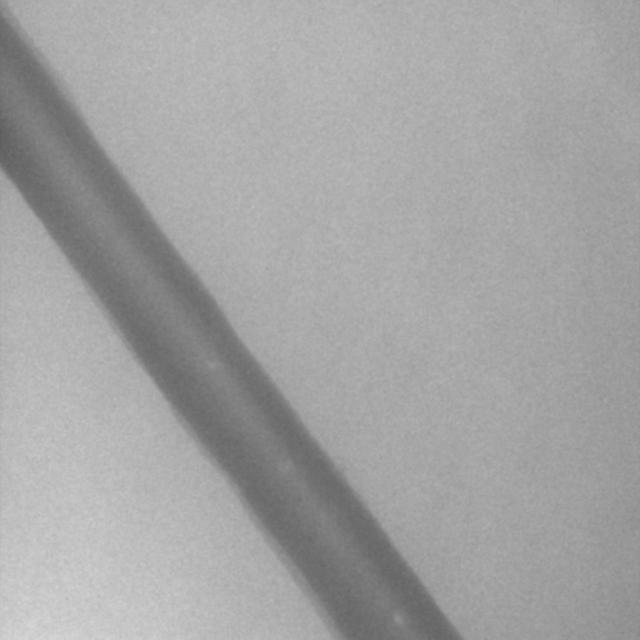air-hole: (278, 460, 296, 474), (206, 356, 222, 370), (394, 612, 406, 626)
